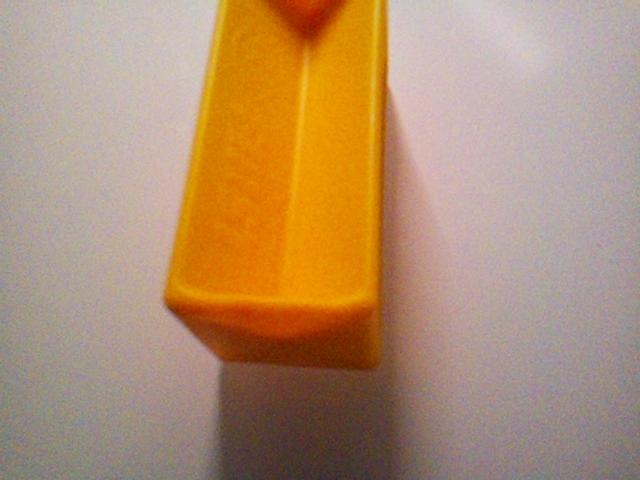yellow: (163, 1, 390, 371)
